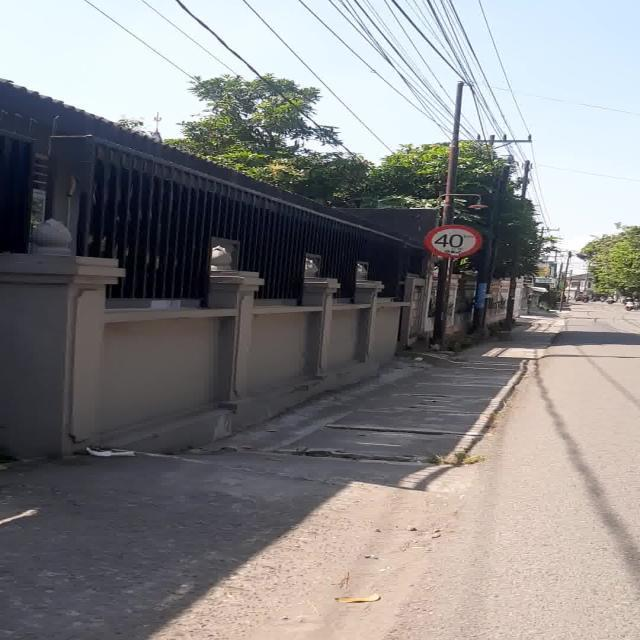Kecepatan Maks. 40 km: (423, 224, 483, 258)
